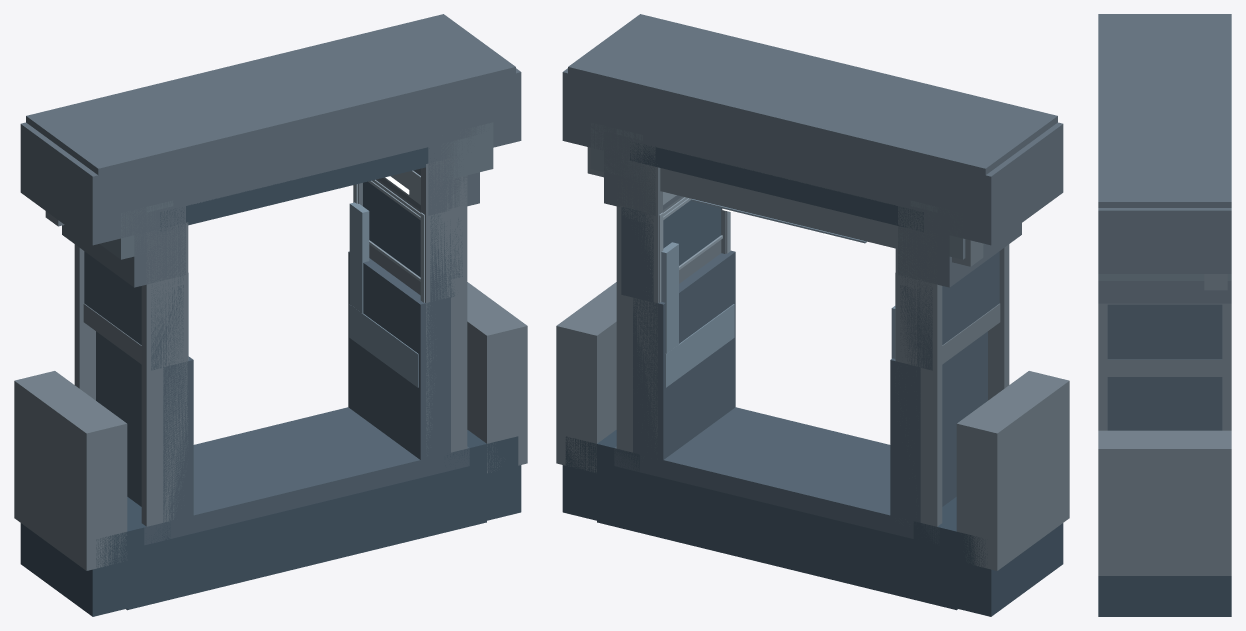
Rendered from continuum-ribbon-bays-v4.gltf.
The picture shows the model from 3 angles, left to right: view 1: azimuth 30°, elevation 25°; view 2: azimuth 150°, elevation 25°; view 3: azimuth 270°, elevation 25°; orthographic projection. The views are drawn at different scales.
Visible parts, largest first — view 1: PANORAMA_START_SHELL, SERVICE_SHELL, PANORAMA_START_INLAY, PANORAMA_END_SHELL, GATE_INLAY; view 2: PANORAMA_START_SHELL, PANORAMA_END_SHELL, SERVICE_SHELL, GATE_SHELL, PANORAMA_START_INLAY, GATE_INLAY; view 3: PANORAMA_START_SHELL, SERVICE_SHELL, PANORAMA_END_SHELL, GATE_SHELL.
Part boxes in pixels (x1,y1,x2,y2): PANORAMA_START_SHELL: (14, 14, 527, 616); SERVICE_SHELL: (84, 181, 462, 370); PANORAMA_START_INLAY: (188, 170, 424, 387); PANORAMA_END_SHELL: (74, 183, 362, 400); GATE_INLAY: (349, 202, 369, 313); PANORAMA_START_SHELL: (556, 14, 1069, 616); PANORAMA_END_SHELL: (616, 155, 942, 526); SERVICE_SHELL: (621, 200, 999, 370); GATE_SHELL: (587, 147, 983, 266); PANORAMA_START_INLAY: (663, 192, 734, 387); GATE_INLAY: (661, 199, 895, 358); PANORAMA_START_SHELL: (1098, 14, 1231, 616); SERVICE_SHELL: (1107, 304, 1222, 359); PANORAMA_END_SHELL: (1222, 303, 1231, 430); GATE_SHELL: (1204, 274, 1227, 290).
Bounding box in the file's own units: 56.4 × 54.8 × 16.
